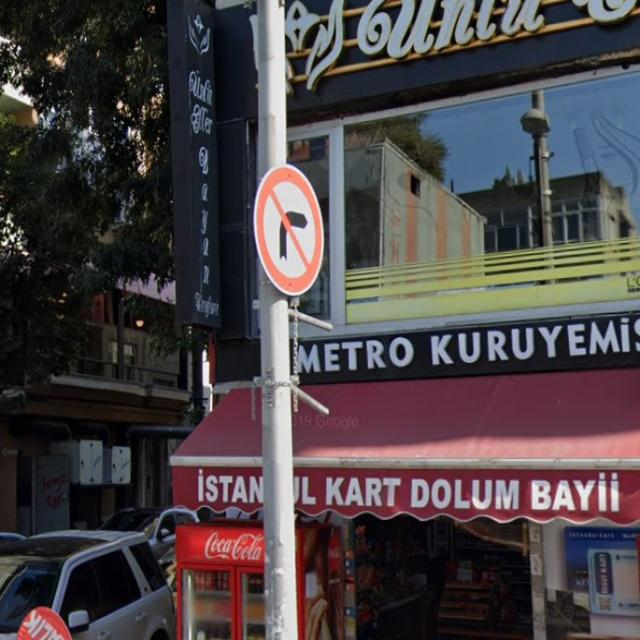sagadonulmez: (253, 164, 324, 296)
